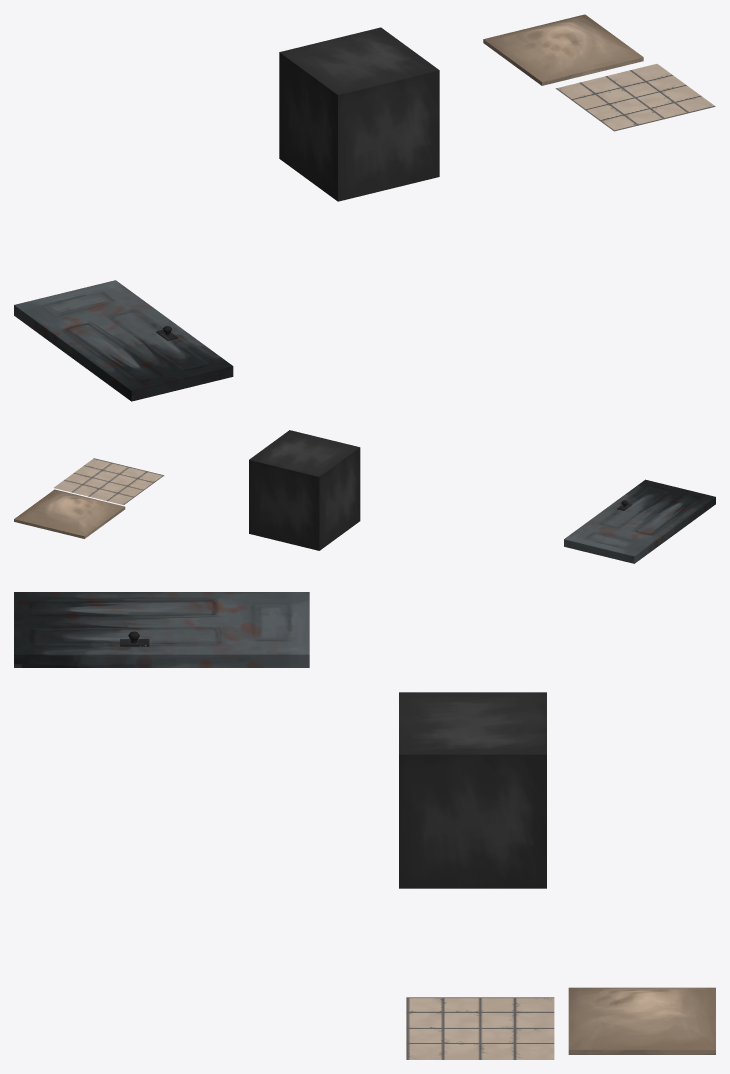
File: murs3.FBX
3 views of the same model, one above another, from view 1: azimuth 30°, elevation 25°; view 2: azimuth 150°, elevation 25°; view 3: azimuth 270°, elevation 25° (orthographic). The views are drawn at different scales.
Visible parts, largest first — view 1: cube, Box001, mur 1, Plane001; view 2: cube, Box001, mur 1, Plane001; view 3: cube, Box001, mur 1, Plane001.
Part boxes in pixels (x1,y1,x2,y2): cube: [279, 27, 439, 201]; Box001: [14, 280, 233, 401]; mur 1: [483, 14, 643, 85]; Plane001: [555, 64, 715, 131]; cube: [249, 430, 360, 550]; Box001: [564, 479, 715, 563]; mur 1: [14, 489, 125, 538]; Plane001: [54, 458, 164, 504]; cube: [399, 692, 546, 888]; Box001: [14, 592, 309, 667]; mur 1: [568, 987, 715, 1054]; Plane001: [406, 997, 554, 1059].
Size of the model in its own units: 728 by 100 by 475.
